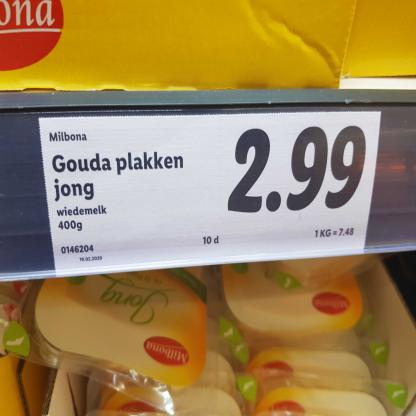prtg: (40, 112, 383, 277)
